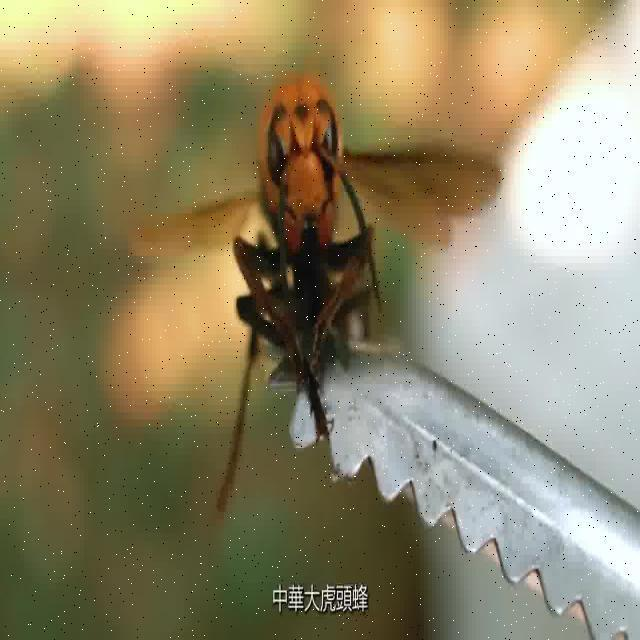Wasp: (129, 64, 506, 437)
